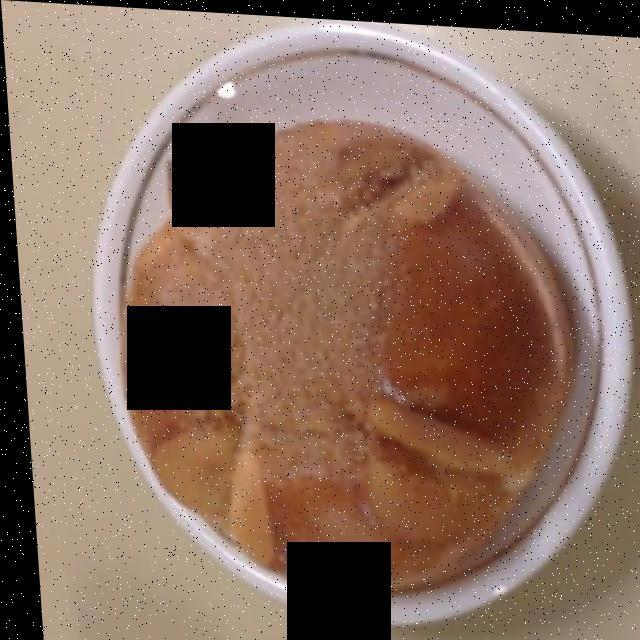bread: (114, 121, 553, 597)
